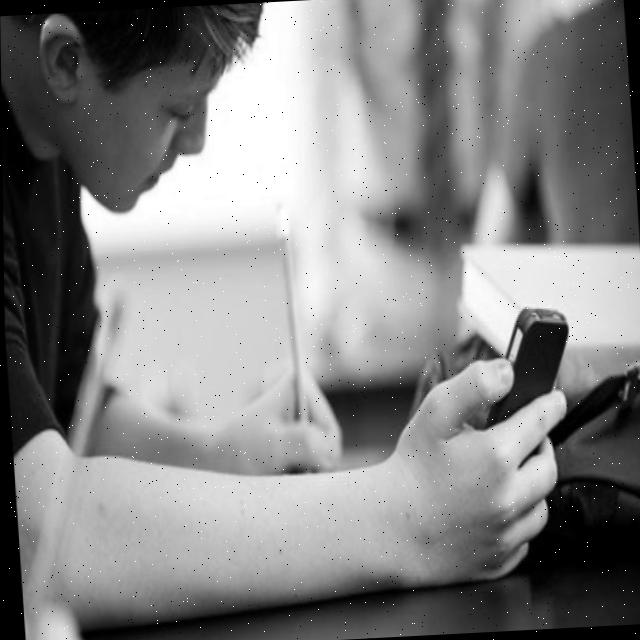phone: (474, 301, 576, 434)
